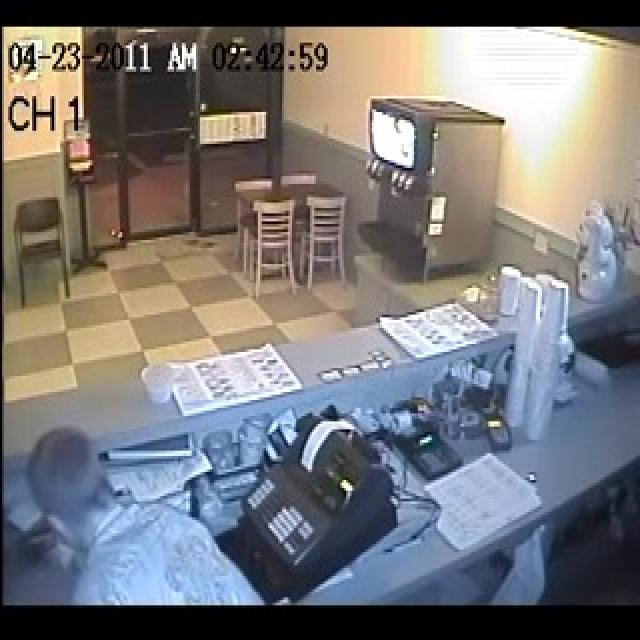thief: (9, 426, 278, 598)
